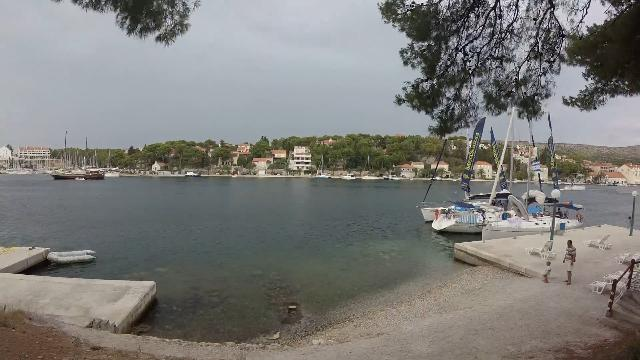Freighter: (30, 162, 112, 184)
